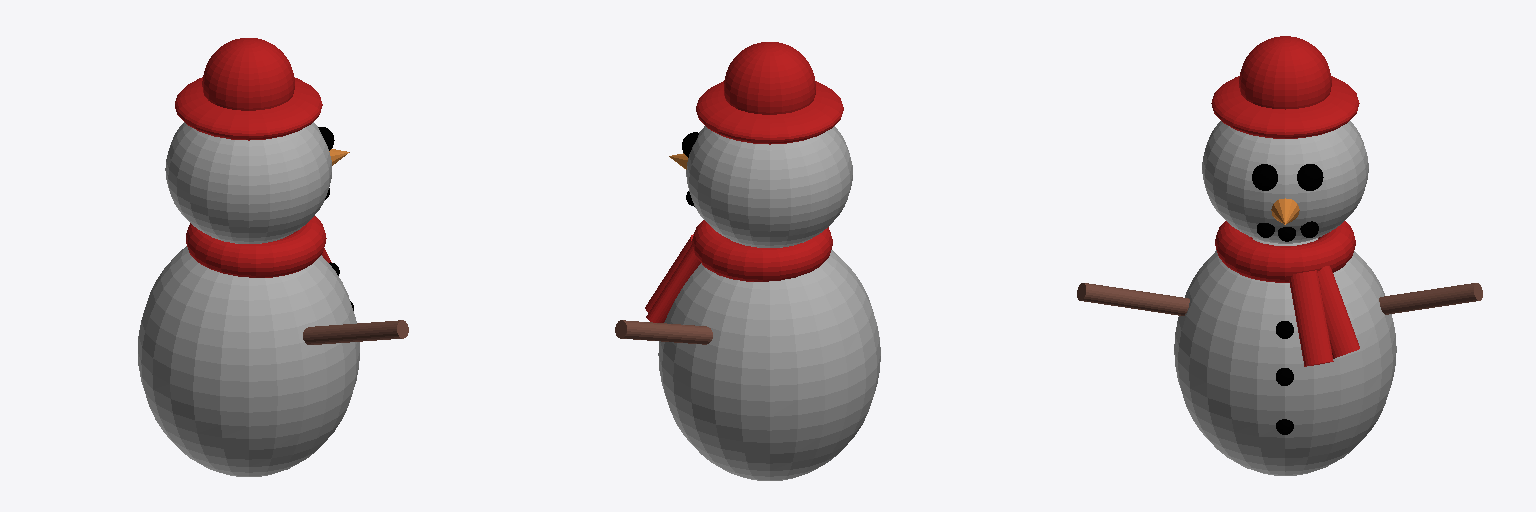
Rendered from snowman.obj.
3 renders of one model, left to right at view 1: azimuth 30°, elevation 25°; view 2: azimuth 150°, elevation 25°; view 3: azimuth 270°, elevation 25°, orthographic.
Parts seen in each view (by area): view 1: Sphere, Sphere1, Sphere8, Sphere7, Torus, Cylinder2; view 2: Sphere, Sphere1, Sphere8, Sphere7, Torus, Cylinder3, Cylinder1; view 3: Sphere, Sphere1, Sphere8, Torus, Sphere7, Cylinder, Cylinder2, Cylinder1, Cylinder3, Sphere3, Sphere2, Cone.
Part boxes in pixels (x1,y1,x2,y2): Sphere: (138, 246, 359, 476); Sphere1: (165, 122, 331, 243); Sphere8: (202, 38, 294, 110); Sphere7: (175, 77, 322, 140); Torus: (186, 216, 326, 277); Cylinder2: (303, 320, 408, 344); Sphere: (658, 250, 880, 480); Sphere1: (686, 126, 852, 247); Sphere8: (724, 42, 815, 114); Sphere7: (696, 81, 843, 144); Torus: (692, 220, 832, 281); Cylinder3: (615, 320, 712, 344); Cylinder1: (646, 244, 700, 322); Sphere: (1174, 238, 1396, 475); Sphere1: (1202, 121, 1368, 243); Sphere8: (1239, 36, 1331, 109); Torus: (1215, 221, 1355, 282); Sphere7: (1211, 76, 1359, 138); Cylinder: (1289, 270, 1333, 366); Cylinder2: (1077, 283, 1189, 315); Cylinder1: (1318, 266, 1359, 358); Cylinder3: (1379, 283, 1482, 314); Sphere3: (1297, 164, 1323, 190); Sphere2: (1252, 164, 1277, 190); Cone: (1271, 198, 1299, 224).
Bounding box in the file's own units: 1.25 × 2.54 × 2.19.